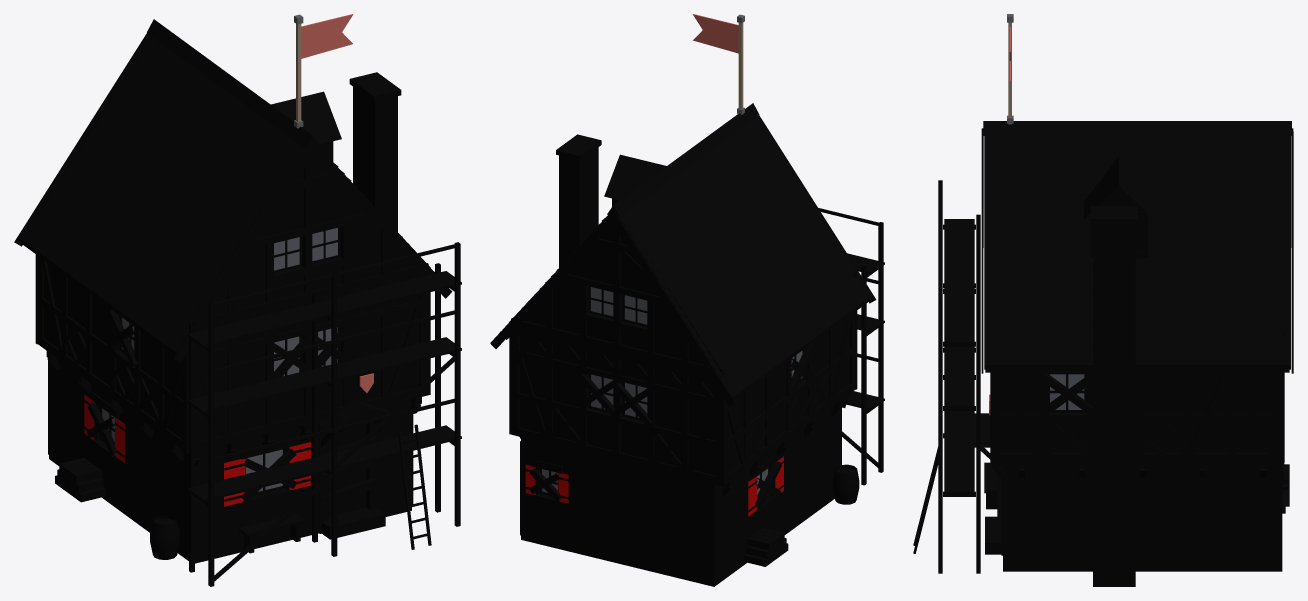
File: wohnhaus_mensch_s2_g1.glb
3 renders of one model, left to right at view 1: azimuth 30°, elevation 25°; view 2: azimuth 150°, elevation 25°; view 3: azimuth 270°, elevation 25°, orthographic. The views are drawn at different scales.
Parts seen in each view (by area): view 1: Haus, Dach, Geruest, Leerstand, Scheiben, Fahne; view 2: Haus, Dach, Geruest, Leerstand, Scheiben, Fahne; view 3: Dach, Haus, Geruest, Leerstand, Scheiben, Fahne.
Boxes of the visible parts, bbox=[...] form: Haus: bbox=[35, 37, 430, 563]; Dach: bbox=[14, 19, 452, 362]; Geruest: bbox=[187, 242, 461, 586]; Leerstand: bbox=[86, 310, 378, 504]; Scheiben: bbox=[102, 228, 337, 491]; Fahne: bbox=[294, 14, 353, 128]; Haus: bbox=[509, 118, 859, 586]; Dach: bbox=[490, 103, 876, 406]; Geruest: bbox=[818, 208, 884, 485]; Leerstand: bbox=[529, 342, 816, 508]; Scheiben: bbox=[542, 287, 802, 495]; Fahne: bbox=[693, 14, 744, 114]; Dach: bbox=[981, 121, 1293, 373]; Haus: bbox=[970, 137, 1285, 586]; Geruest: bbox=[913, 180, 980, 573]; Leerstand: bbox=[985, 369, 1289, 519]; Scheiben: bbox=[1050, 374, 1084, 409]; Fahne: bbox=[1007, 14, 1013, 124].
Size of the model in its own units: 6.73 by 11.75 by 8.03.
